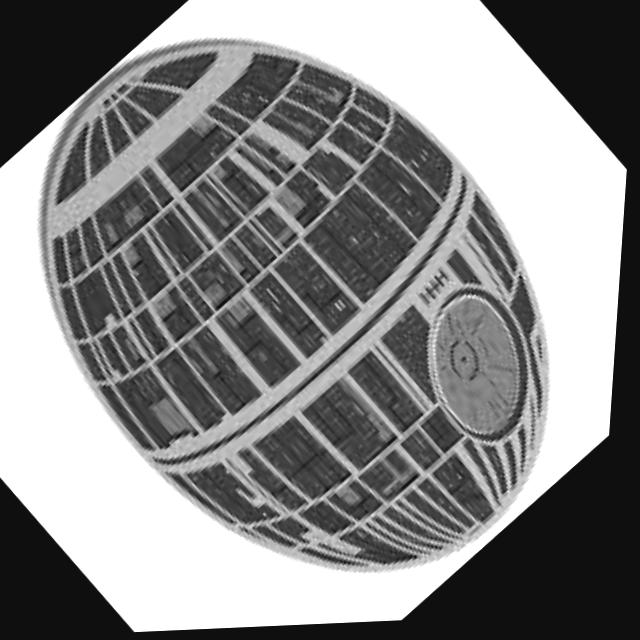death-stars: (40, 35, 559, 579)
